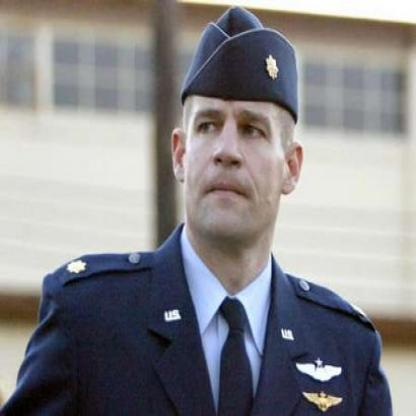face: (185, 29, 291, 247)
